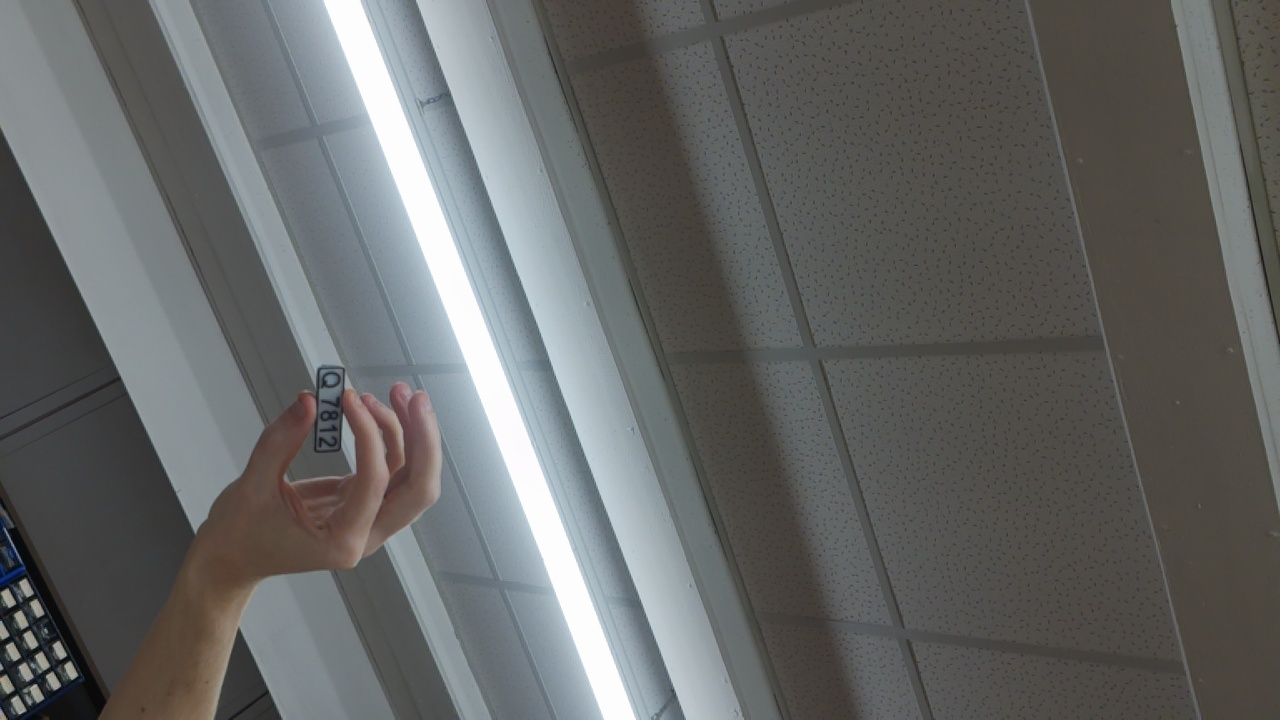license_plate: (308, 359, 347, 454)
